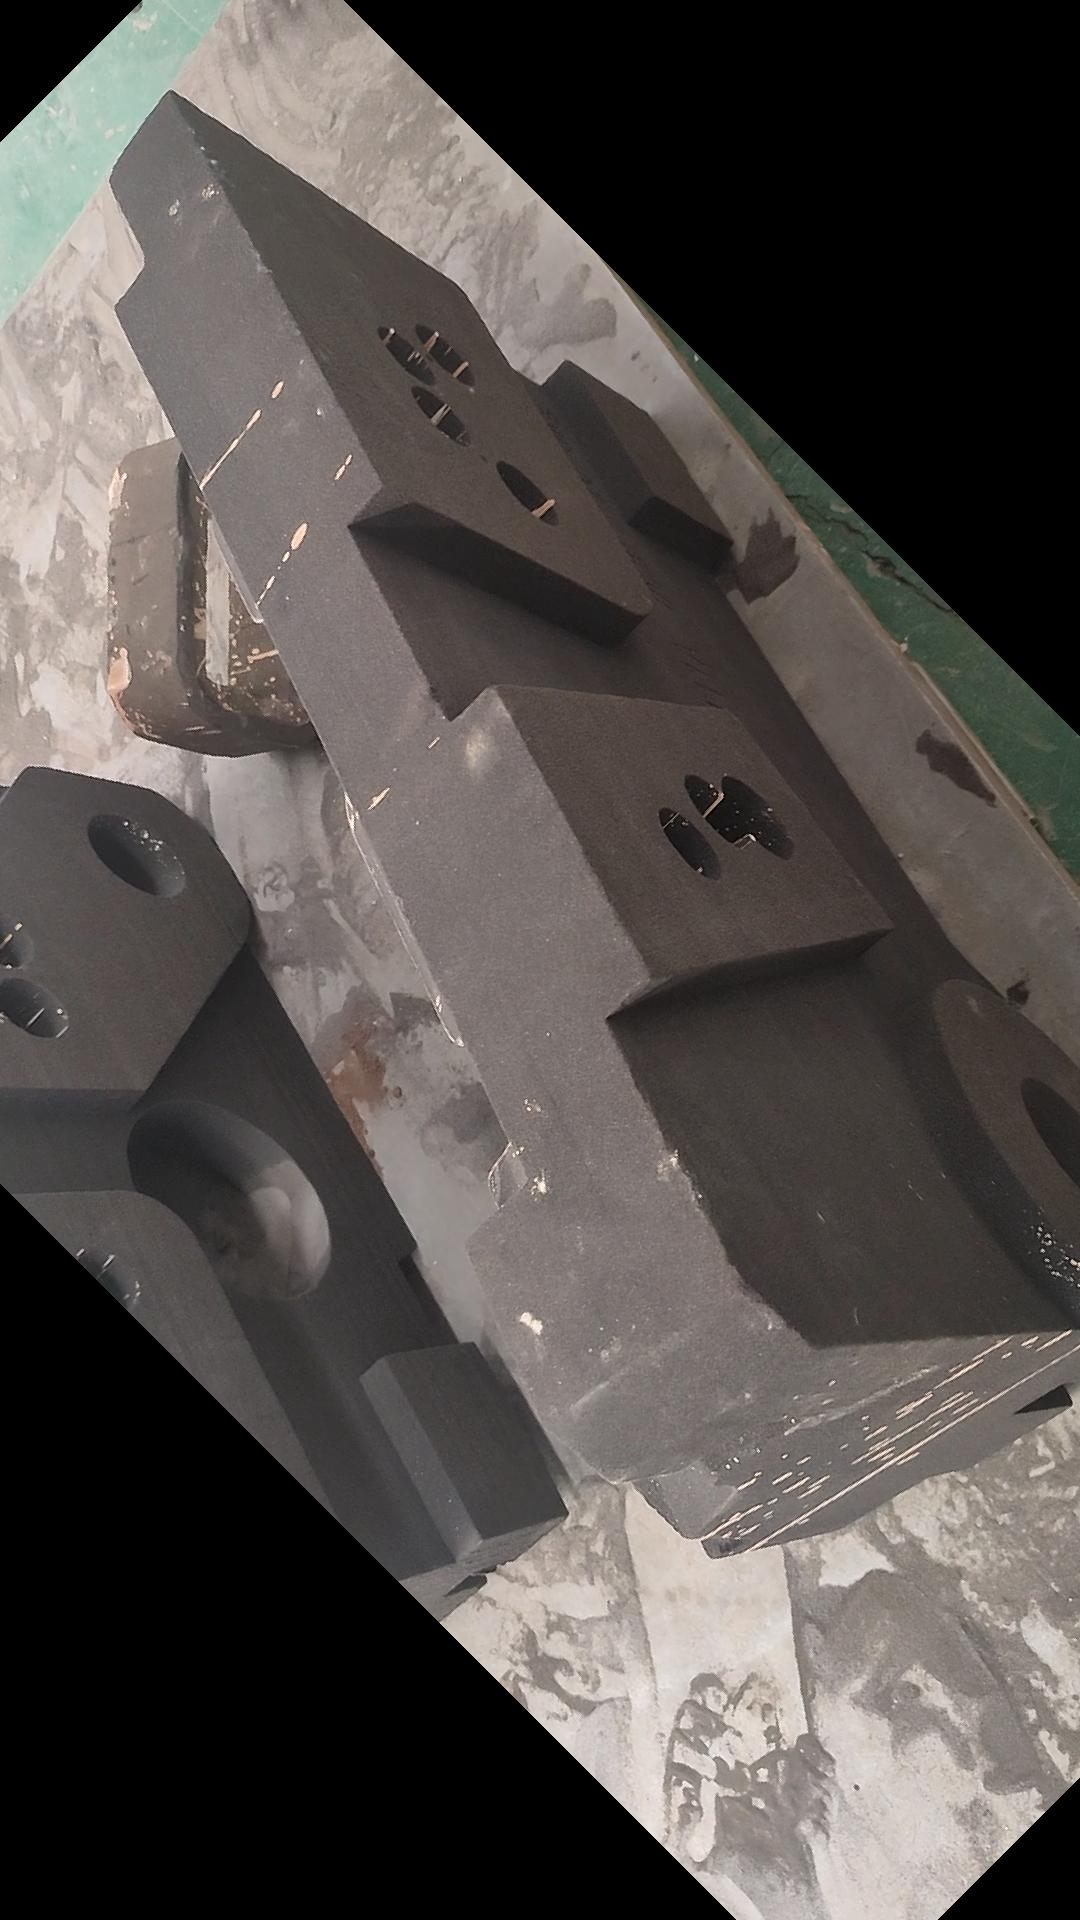pouring hole: (90, 814, 186, 897), (1021, 1068, 1080, 1182)
